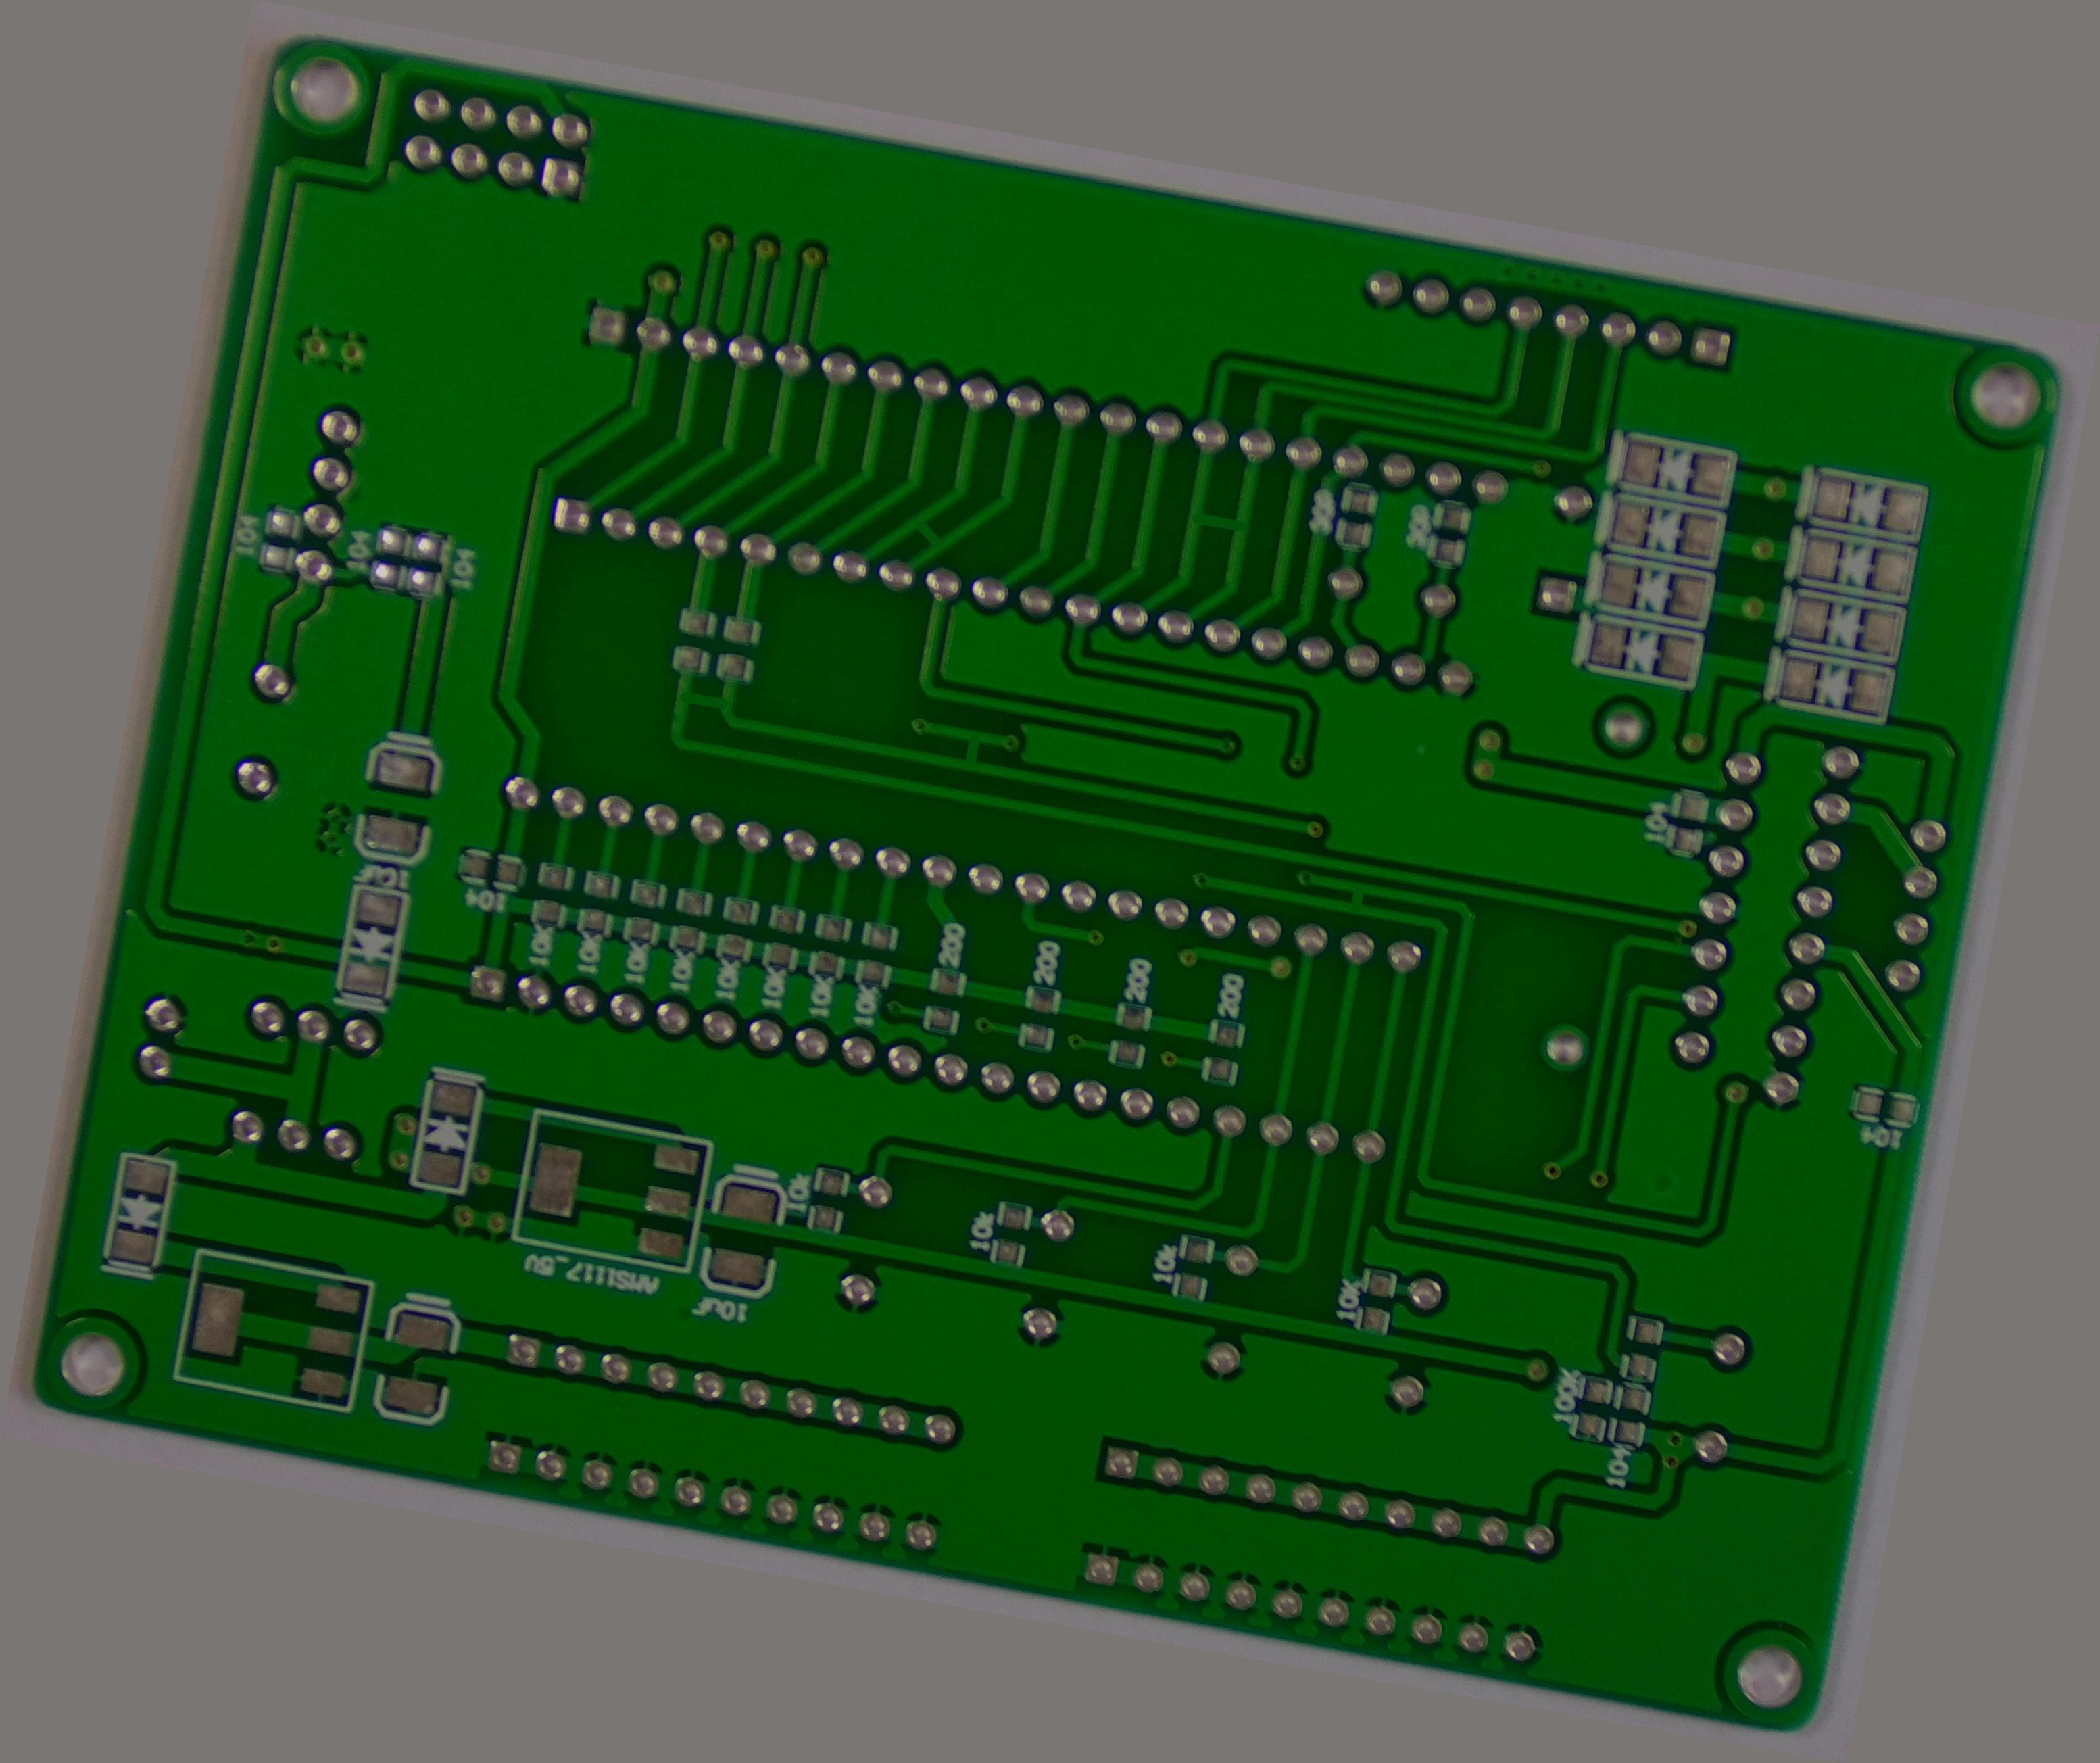short: (652, 672, 759, 729), (1177, 493, 1257, 553), (894, 507, 955, 560), (1329, 869, 1383, 925), (944, 722, 991, 775)
